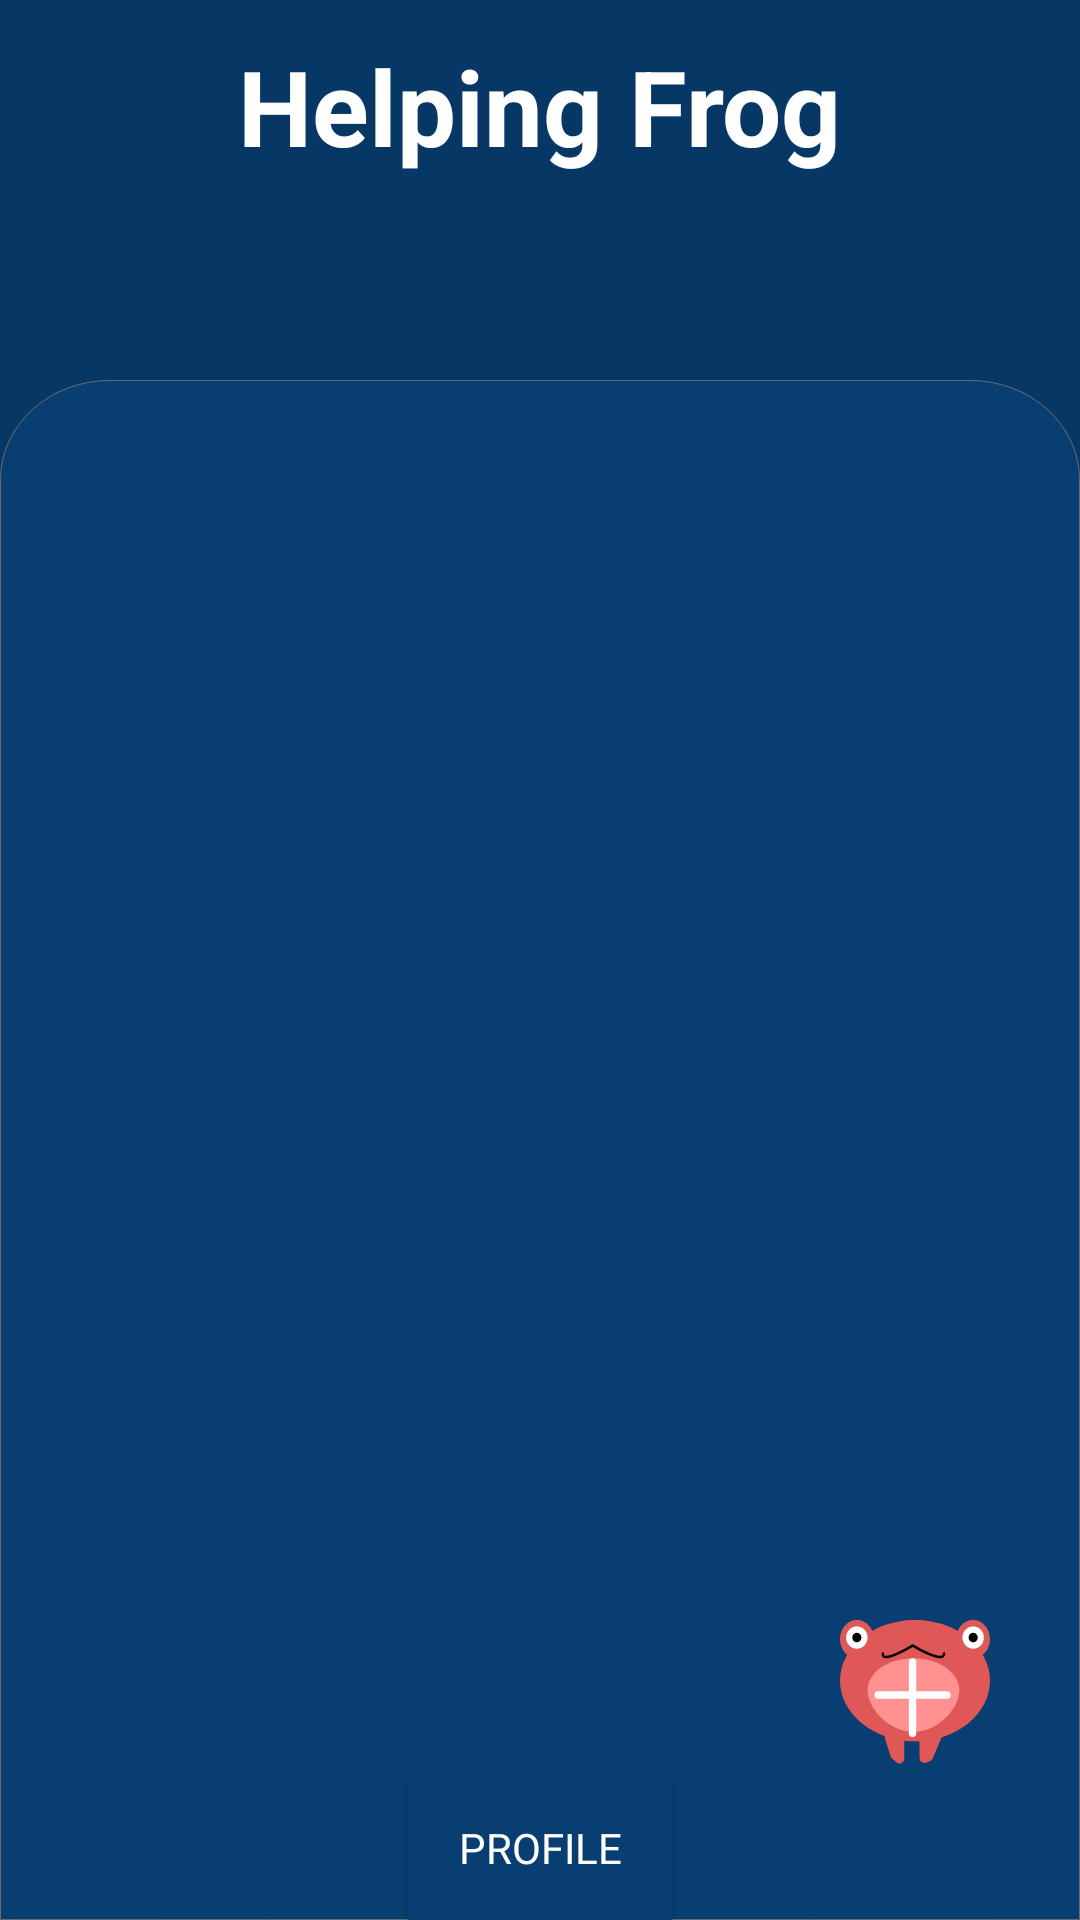

Icons on this 1080 × 1920 Android screen, each with its box as (x1, y1, x2, y2):
add: (840, 1620, 990, 1764)
